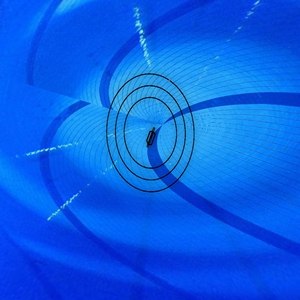circle: (103, 71, 198, 197)
submarine: (144, 125, 163, 151)
